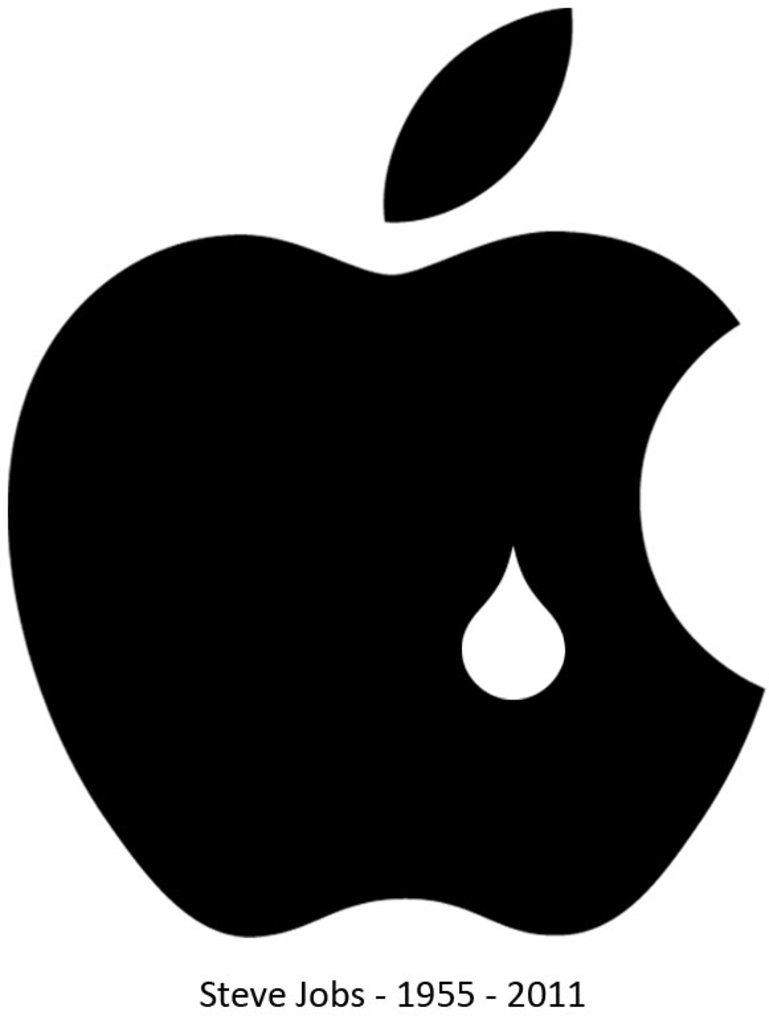Apple: (2, 3, 765, 941)
